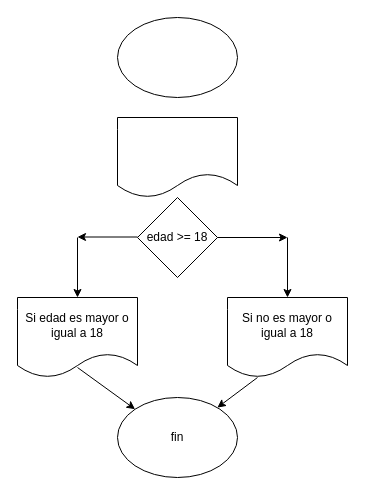
The diagram is 365 pixels wide and 495 high, and some of its shapes have lost their labels. Here are the shapes that lost their labels. From the top down, the centre of each, then its label:
[177,57]: inicio
[177,157]: var edad
